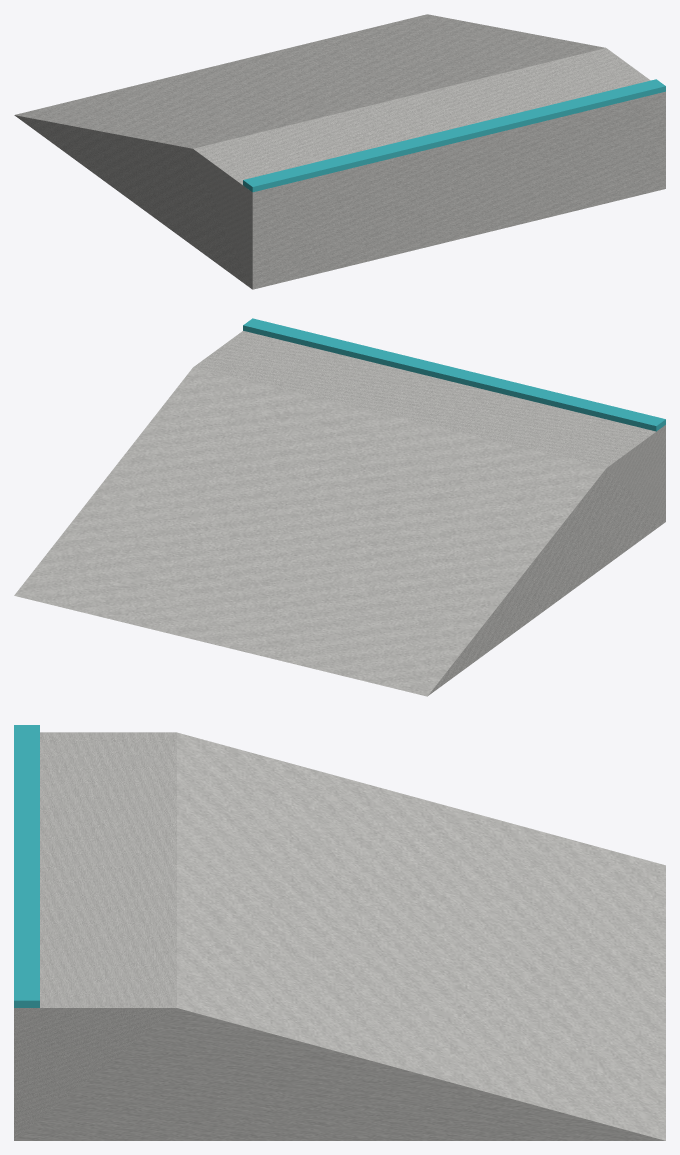
The model's file is skate-park-and-street-sports-bank-ramp-b455dab4__33515.glb.
The picture shows the model from 3 angles, top to bottom: view 1: azimuth 30°, elevation 25°; view 2: azimuth 150°, elevation 25°; view 3: azimuth 270°, elevation 25°; orthographic projection. The views are drawn at different scales.
Visible parts, largest first — view 1: bank-ramp-concrete, bank-ramp-teal; view 2: bank-ramp-concrete, bank-ramp-teal; view 3: bank-ramp-concrete, bank-ramp-teal.
Boxes of the visible parts, x1,y1,x2,y2 form: bank-ramp-concrete: (14,14,665,289); bank-ramp-teal: (243,79,665,192); bank-ramp-concrete: (14,331,665,696); bank-ramp-teal: (243,318,665,431); bank-ramp-concrete: (14,732,665,1140); bank-ramp-teal: (14,725,39,1007).
Bounding box in the file's own units: 4 × 0.9499 × 4.
Materials: 2 (1 with a texture image).
